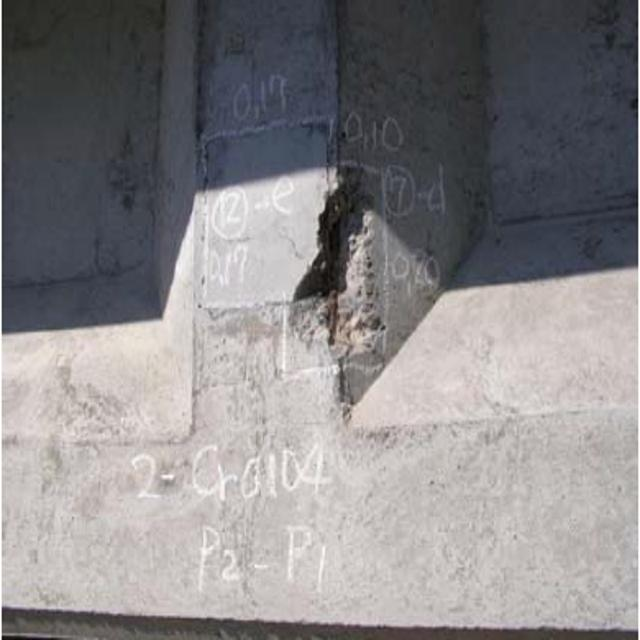spalling: (280, 160, 407, 390)
